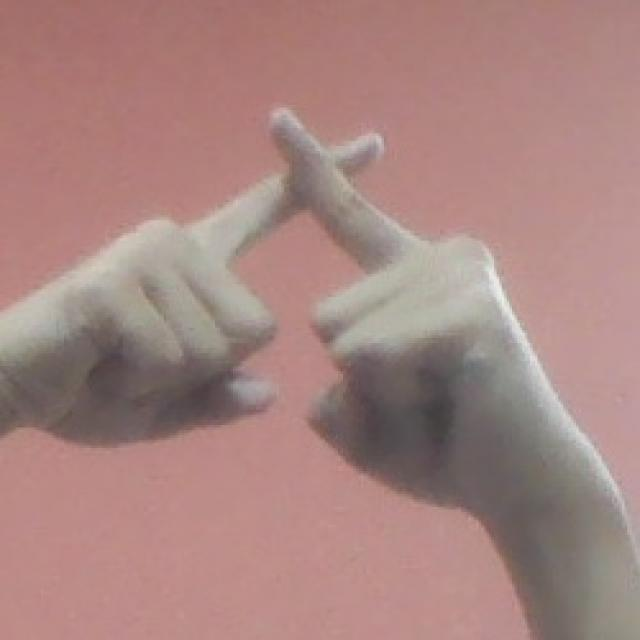Alphabet-X: (31, 107, 540, 525)
